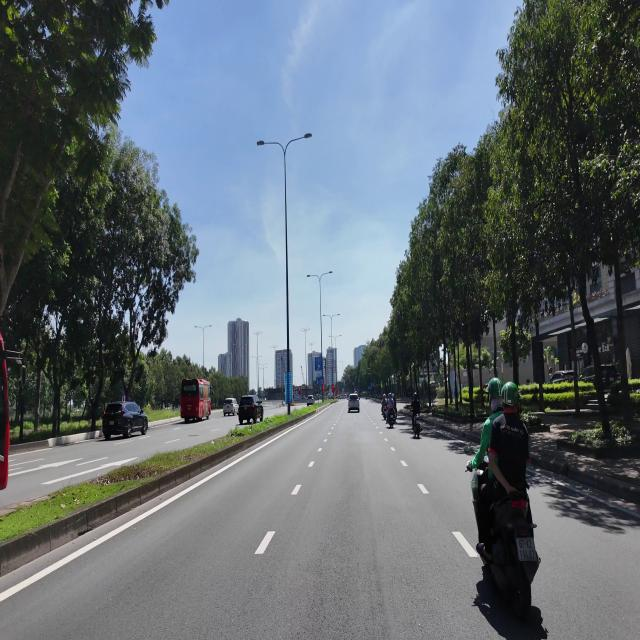car: (103, 402, 148, 440), (238, 395, 263, 424), (223, 398, 238, 415), (348, 394, 359, 412), (307, 395, 314, 405)
motorcycle: (481, 492, 540, 618), (412, 415, 421, 438), (386, 409, 396, 427)
